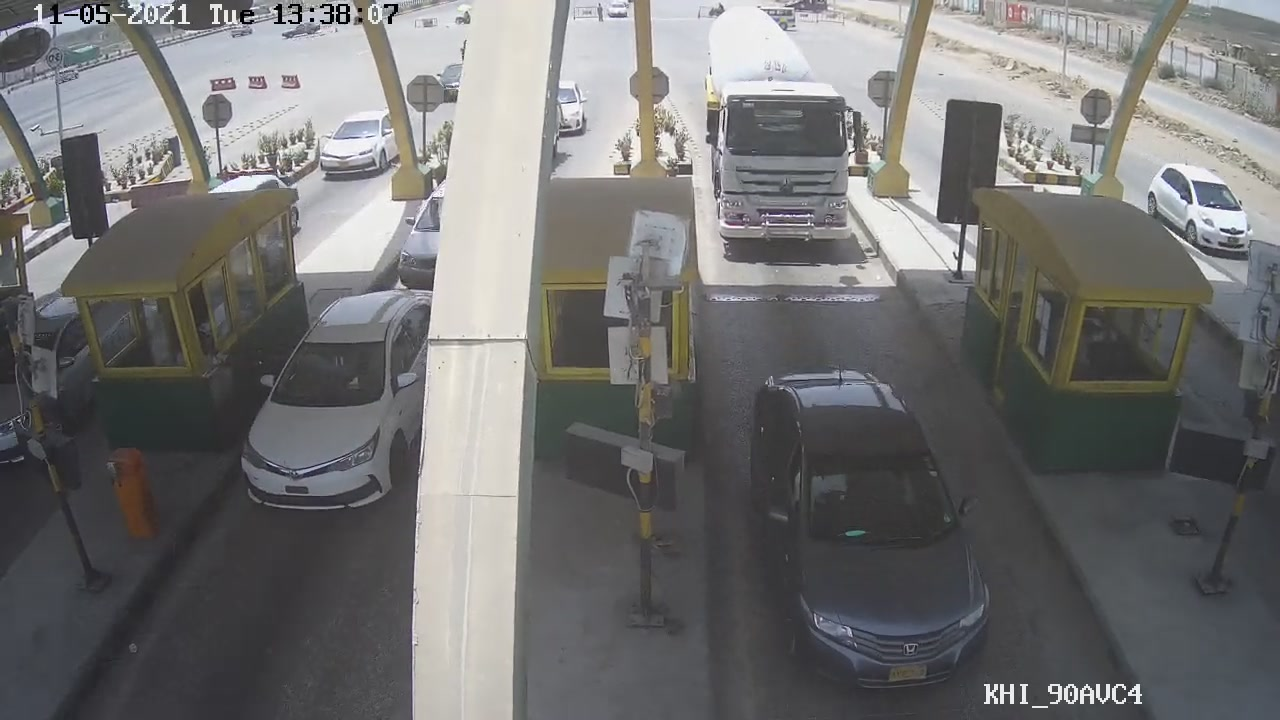F1: (741, 363, 1000, 700)
F6: (703, 20, 870, 252)
